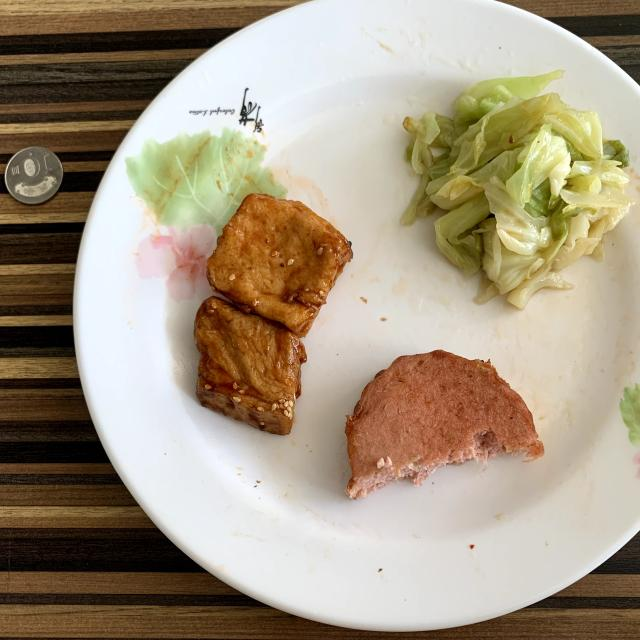Spam: (345, 350, 544, 499)
cabbage: (400, 70, 635, 308)
coin: (5, 146, 62, 204)
creamy tofu: (194, 194, 352, 435)
